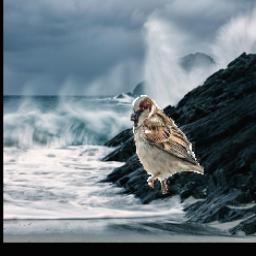Sparrow: (130, 95, 205, 196)
